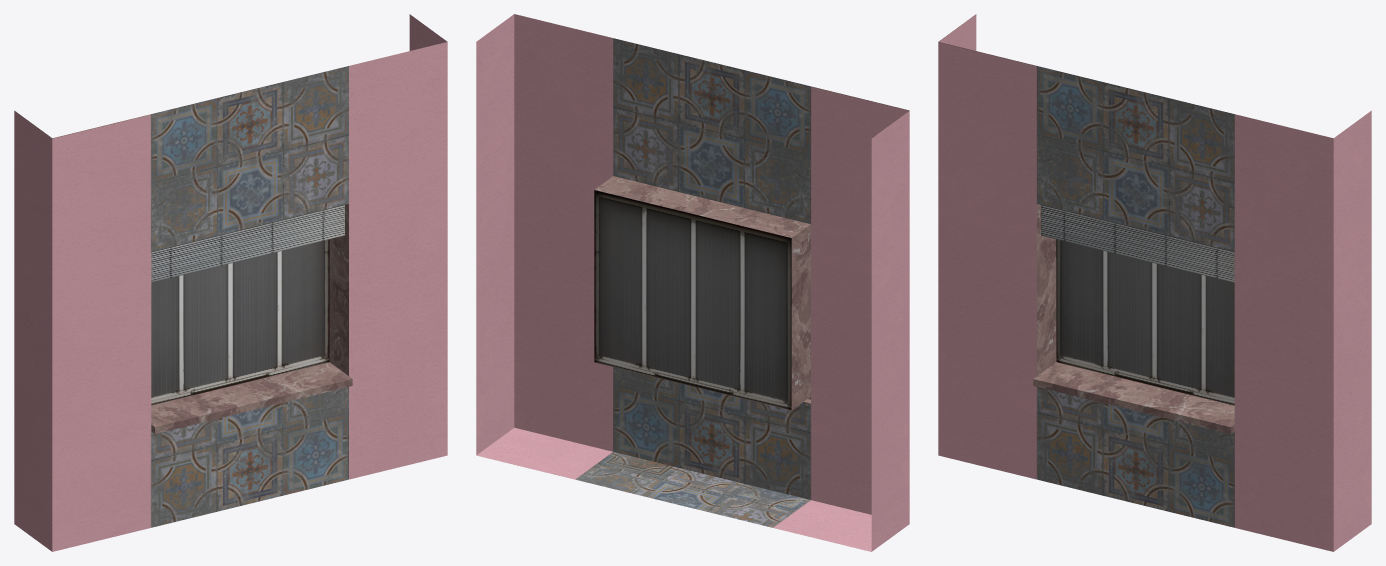
The model's file is Building A Window A3.fbx.
The picture shows the model from 3 angles, left to right: view 1: azimuth 30°, elevation 25°; view 2: azimuth 150°, elevation 25°; view 3: azimuth 330°, elevation 25°; orthographic projection.
Parts seen in each view (by area): view 1: Building A Window A3 (2, Baked); view 2: Building A Window A3 (2, Baked); view 3: Building A Window A3 (2, Baked).
Part boxes in pixels (left/top/right/bottom): Building A Window A3 (2, Baked): left=14, top=14, right=447, bottom=551; Building A Window A3 (2, Baked): left=476, top=14, right=909, bottom=551; Building A Window A3 (2, Baked): left=938, top=14, right=1371, bottom=551.
Size of the model in its own units: 300 by 300 by 55.
